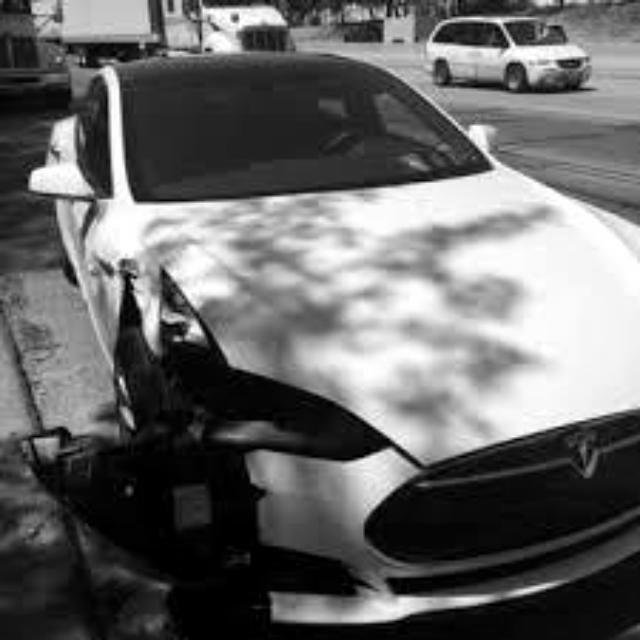Headlight-damage: (131, 279, 233, 401)
